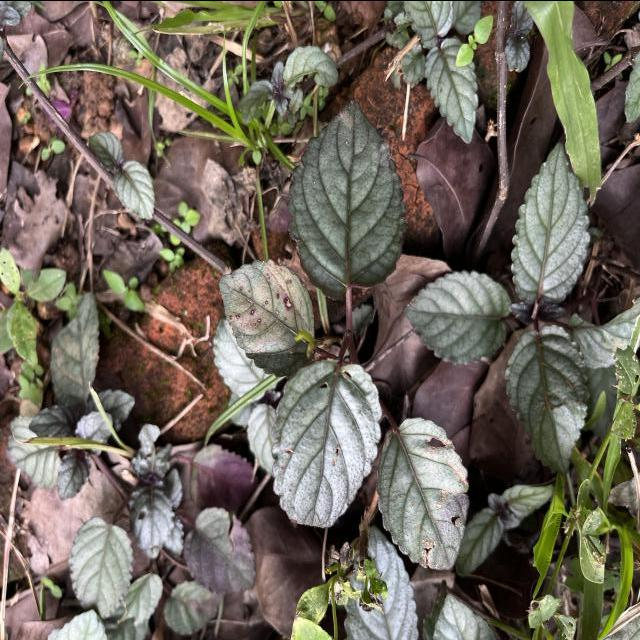Hemigraphis colorata: (283, 93, 409, 304), (267, 354, 384, 532), (372, 412, 470, 572), (506, 134, 594, 309), (501, 322, 594, 482), (213, 255, 317, 384), (398, 266, 514, 366), (422, 29, 482, 144)
